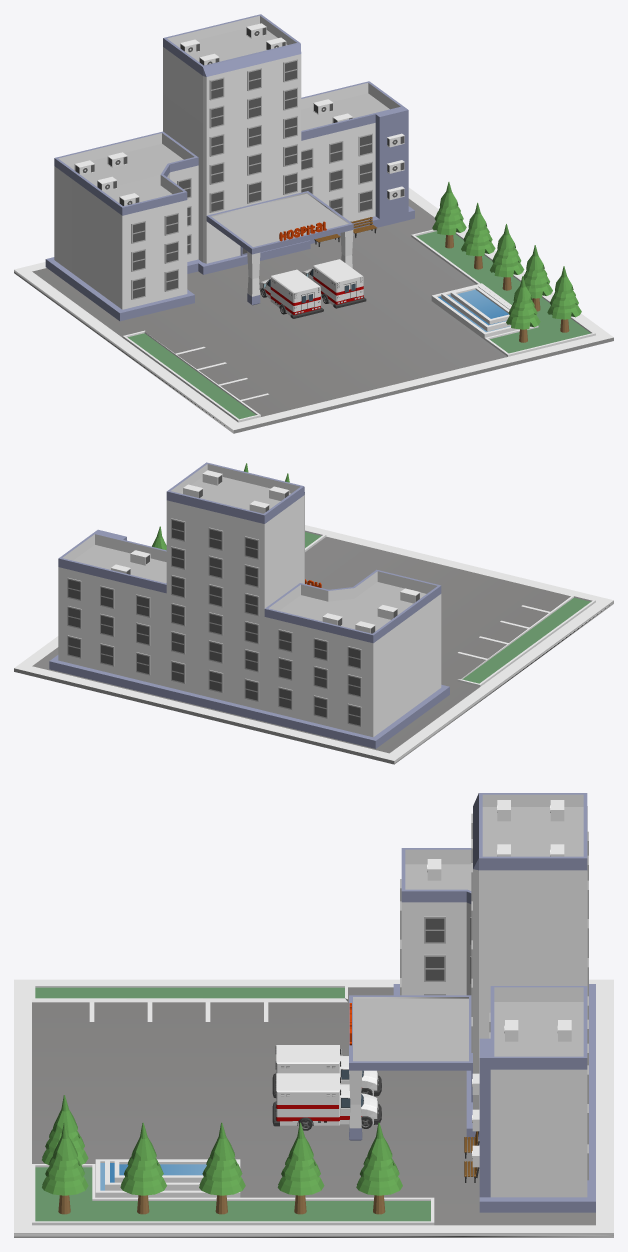
Rendered from Hospital.fbx.
3 views of the same model, one above another, from view 1: azimuth 30°, elevation 25°; view 2: azimuth 150°, elevation 25°; view 3: azimuth 270°, elevation 25° (orthographic). The views are drawn at different scales.
Parts seen in each view (by area): view 1: S1 Tree_7_Color_0; view 2: S1 Tree_7_Color_0; view 3: S1 Tree_7_Color_0.
Part boxes in pixels (left/top/right/bottom): S1 Tree_7_Color_0: left=14, top=14, right=613, bottom=433; S1 Tree_7_Color_0: left=14, top=462, right=613, bottom=764; S1 Tree_7_Color_0: left=14, top=793, right=613, bottom=1237.
Size of the model in its own units: 3411 by 1784 by 3411.
Materials: 2 (1 with a texture image).
